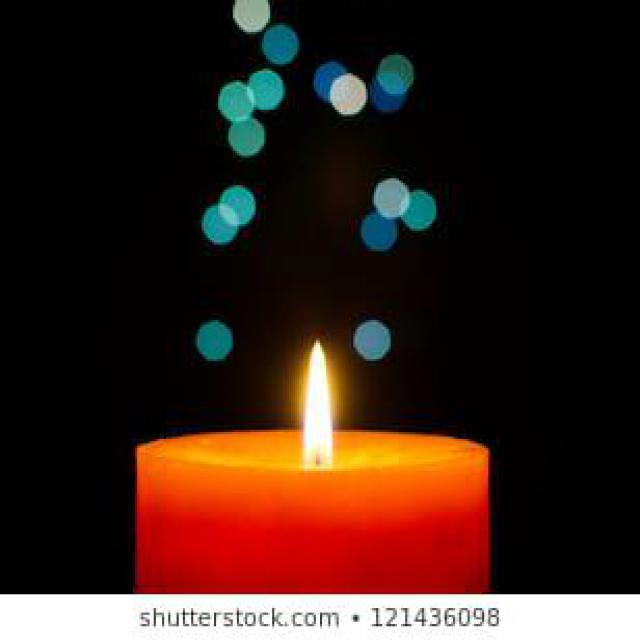Fire: (302, 339, 334, 472)
